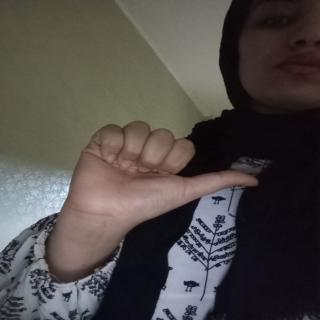DAD: (60, 108, 267, 236)
